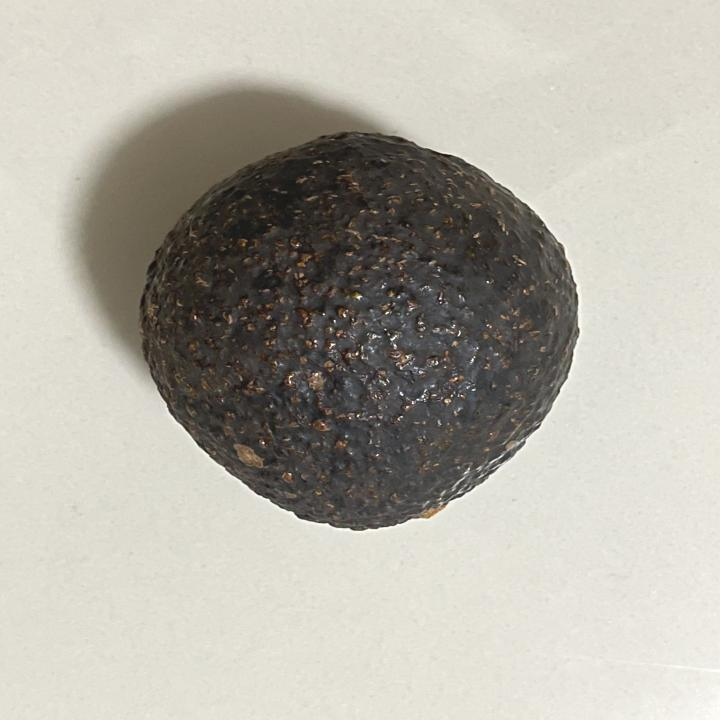Level2: (126, 126, 586, 542)
